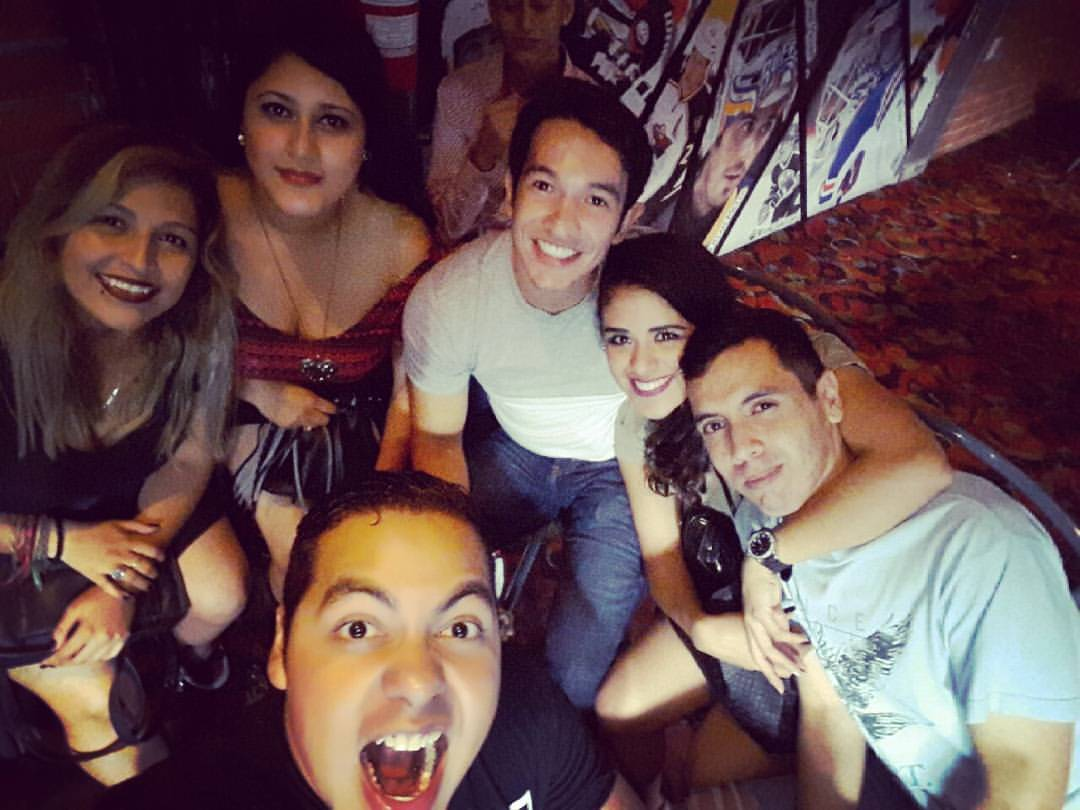Yoshi: (253, 445, 531, 810)
